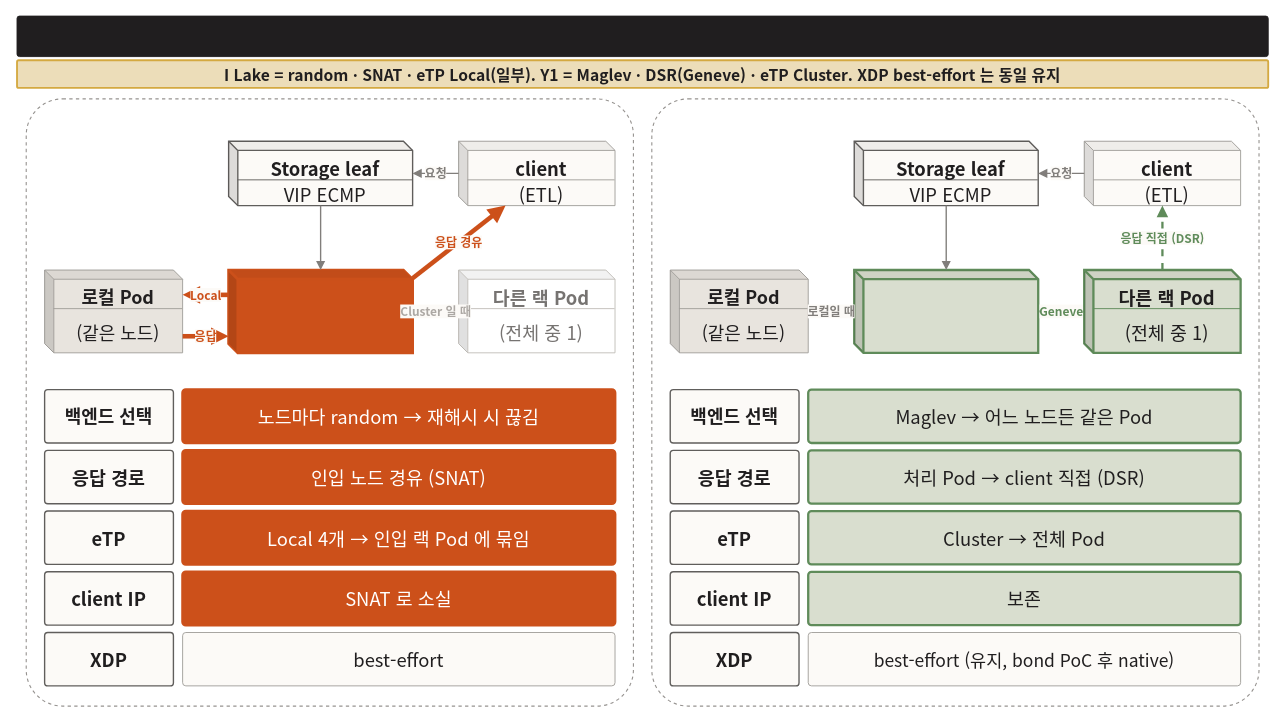
The diagram is 1284 pixels wide and 723 high, and some of its shapes have lost their labels. The shapes that lost their labels are listed below. From the top down, each one's box as (x1, y1, x2, y2) in pixels, then its label:
(16, 15, 1268, 57): 그림 4-1. AIStor VIP 처리 경로 : I Lake → Y1
(227, 268, 414, 354): 인입 노드 XDP best-effort random · SNAT
(853, 268, 1039, 354): 인입 노드 XDP · Maglev → Geneve
(25, 98, 634, 706): I Lake : random + SNAT (+ eTP Local Service 4개)
(651, 98, 1259, 706): Y1 : Maglev + DSR(Geneve) + eTP Cluster
